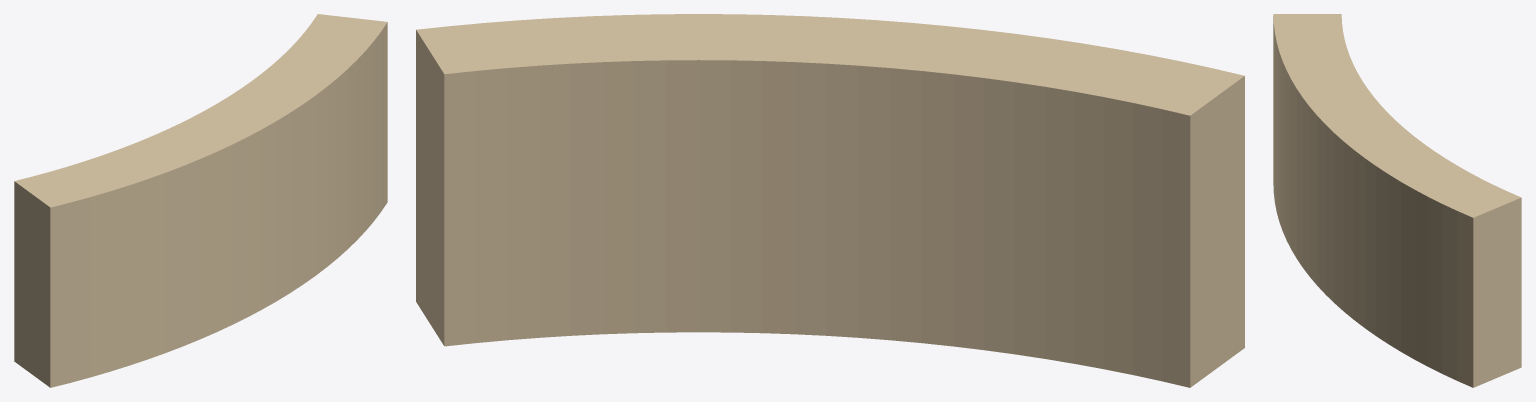
Rendered from ArcParapet_R2_A45.glb.
3 views of the same model, side by side, from view 1: azimuth 30°, elevation 25°; view 2: azimuth 150°, elevation 25°; view 3: azimuth 270°, elevation 25° (orthographic). The views are drawn at different scales.
Parts seen in each view (by area): view 1: PBK_Parapet.014; view 2: PBK_Parapet.014; view 3: PBK_Parapet.014.
Boxes of the visible parts, x1=… form: PBK_Parapet.014: x1=14, y1=14, x2=387, y2=387; PBK_Parapet.014: x1=416, y1=14, x2=1244, y2=387; PBK_Parapet.014: x1=1273, y1=14, x2=1521, y2=387.
Size of the model in its own units: 1.41 by 0.55 by 0.7272.
